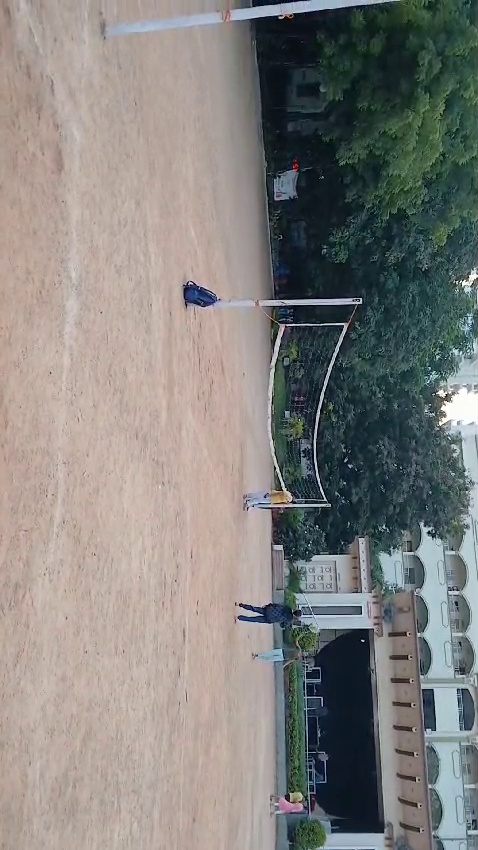bag: (177, 282, 225, 311)
